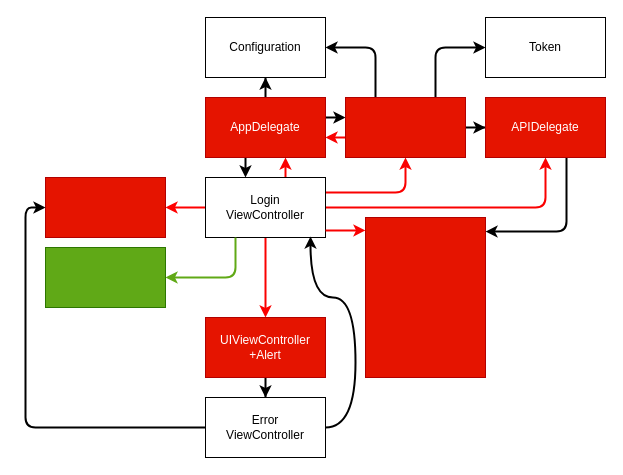
This 623x475 diagram has some shape labels left out. Each missing label, with the centre of its shape:
API: point (405, 127)
Models Event Employee Announcement Product PurchaseOrder UserInfo: point (425, 297)
Skin: point (105, 207)
Validators: point (105, 277)
